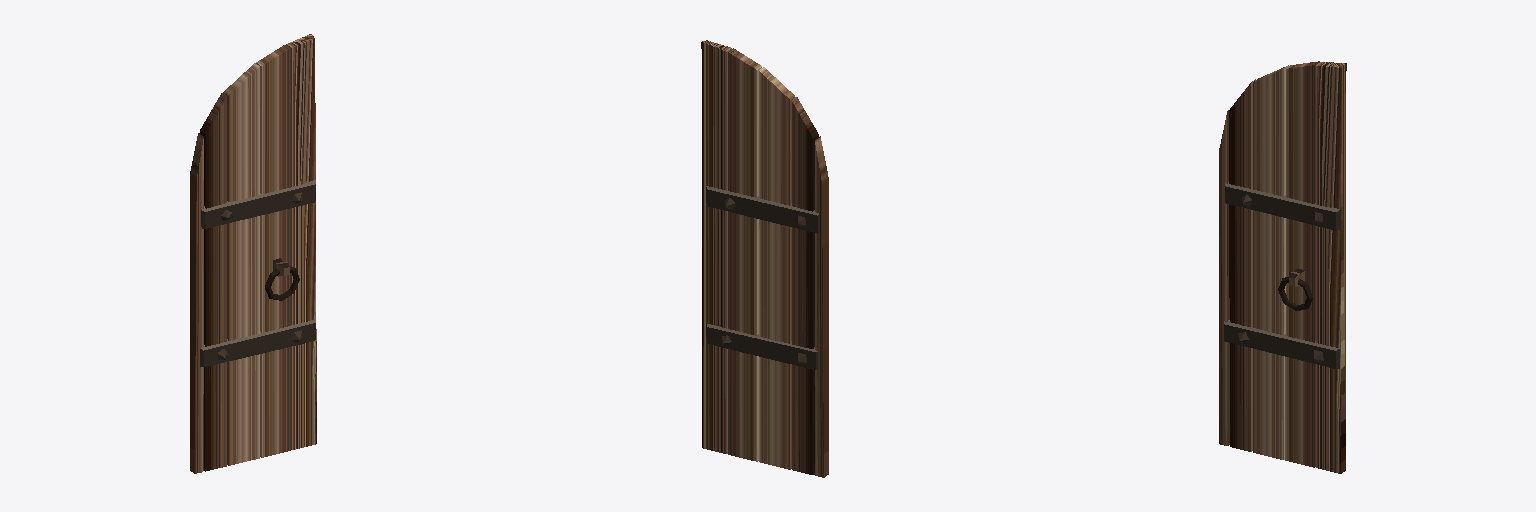
The picture shows the model from 3 angles: view 1: azimuth 30°, elevation 25°; view 2: azimuth 150°, elevation 25°; view 3: azimuth 330°, elevation 25°; orthographic projection.
Parts seen in each view (by area): view 1: Castle-gate-door-left_Mesh.001; view 2: Castle-gate-door-left_Mesh.001; view 3: Castle-gate-door-left_Mesh.001.
Part boxes in pixels (bbox=[...]): Castle-gate-door-left_Mesh.001: bbox=[190, 34, 316, 473]; Castle-gate-door-left_Mesh.001: bbox=[701, 40, 828, 477]; Castle-gate-door-left_Mesh.001: bbox=[1219, 61, 1346, 473].
Size of the model in its own units: 1.1 by 3.5 by 0.3051.
Materials: 1 (1 with a texture image).